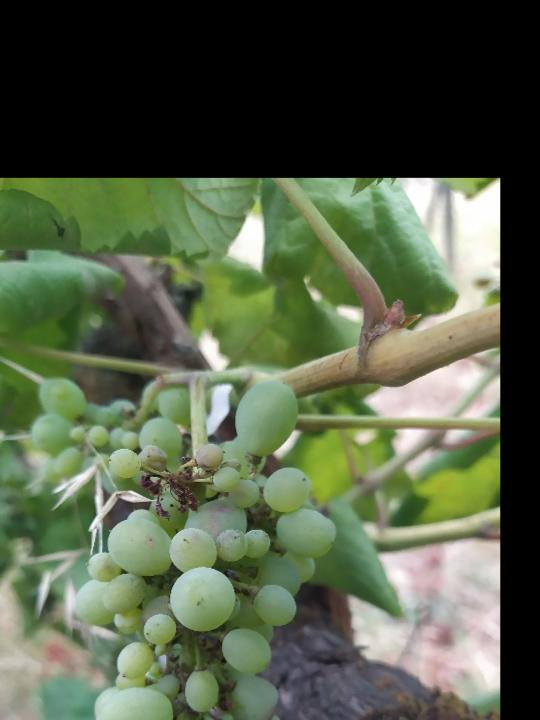grape: (70, 378, 340, 720)
